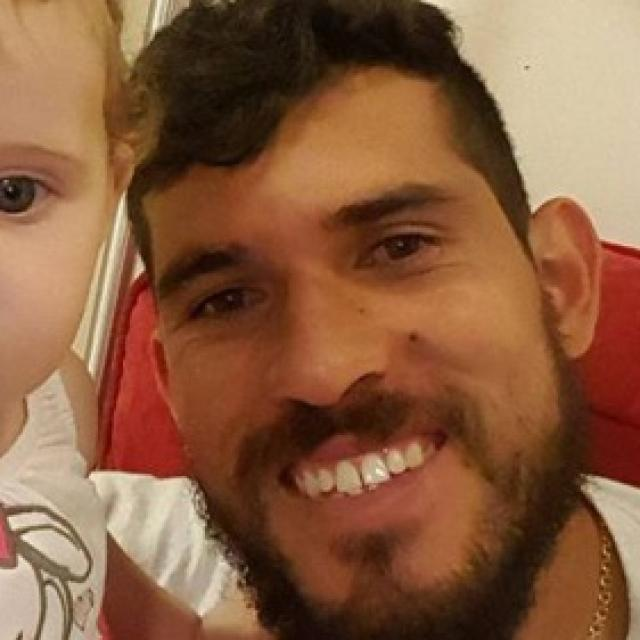Normal: (145, 68, 574, 638)
